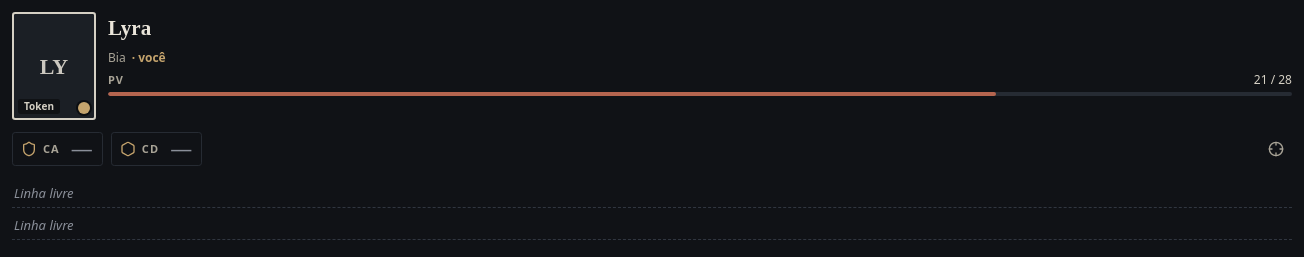
Test case: PlayerCard, editing › letters typed in the CA are filtered as they are typed
Type "1a5" into the field named "CA de Lyra".
click(82, 149); type("1a5")  # box [66,135,98,163]
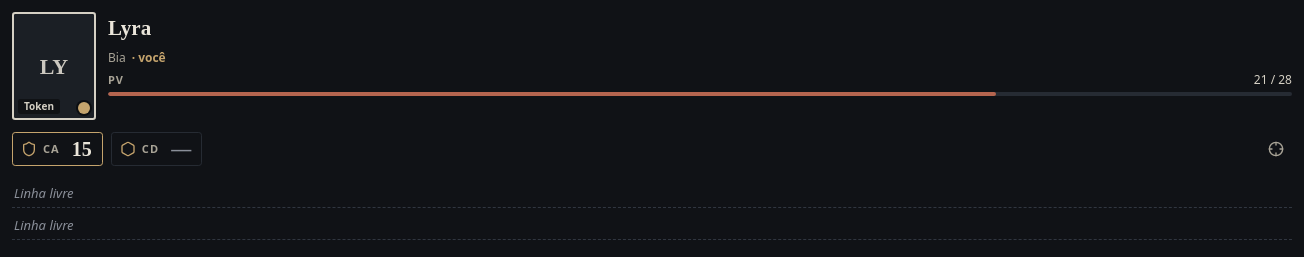
Expected: the field named "CA de Lyra" holds "15", [66,135,98,163]
